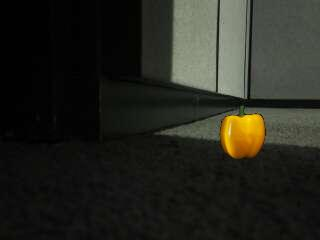Capsicum: (219, 105, 266, 160)
